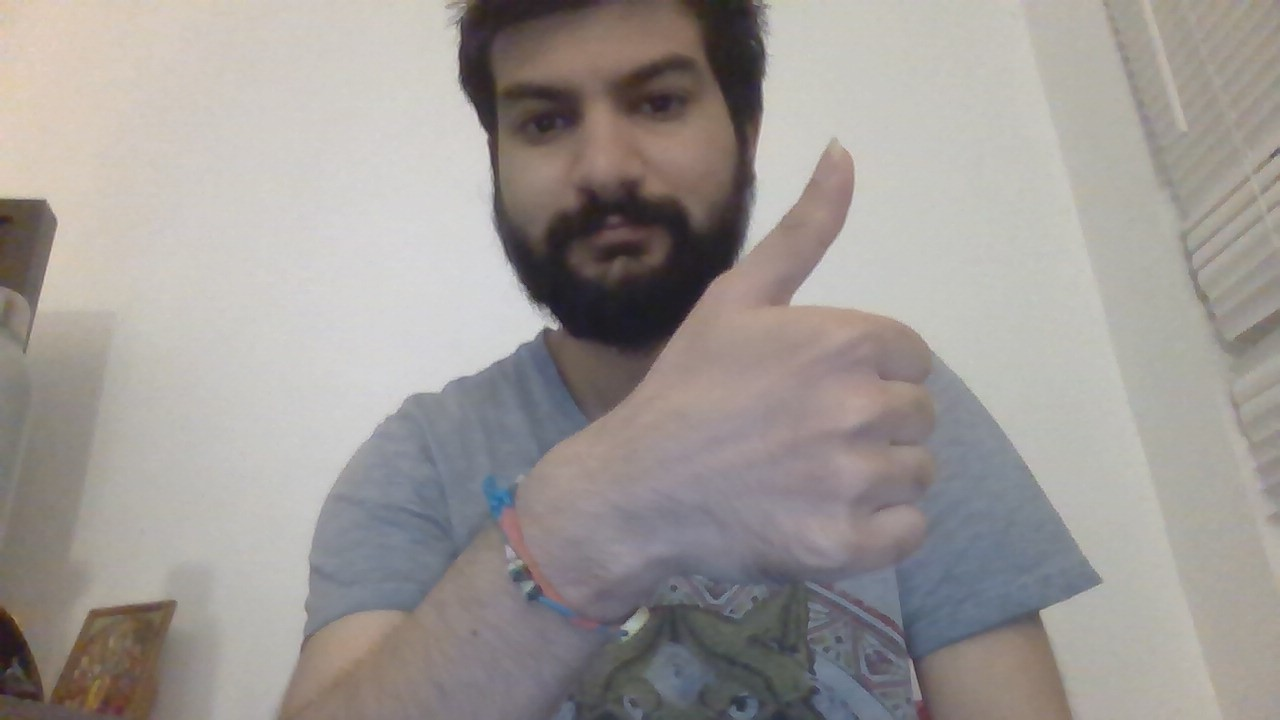up: (663, 137, 985, 587)
